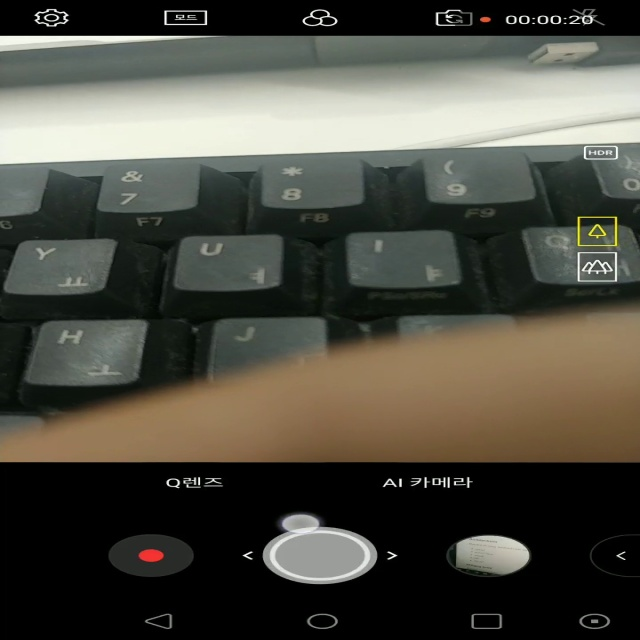Cursor: (280, 513, 324, 536)
